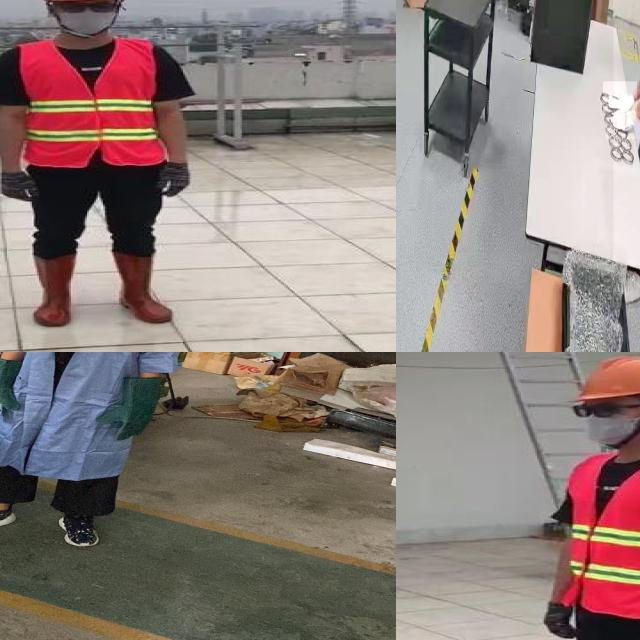boots: (112, 253, 172, 324), (30, 254, 75, 327)
face_mask: (566, 400, 640, 446), (52, 0, 119, 33)
glasses: (567, 398, 635, 421), (54, 0, 115, 17)
hand_glove: (96, 400, 156, 439), (539, 603, 576, 640), (157, 163, 191, 200), (0, 172, 39, 203), (603, 81, 637, 112), (605, 111, 640, 140), (0, 376, 21, 422)
head_helmet: (565, 354, 640, 404)
person: (0, 0, 197, 328), (0, 352, 202, 556), (534, 353, 640, 640), (613, 0, 640, 266)
shoes: (46, 507, 108, 550), (0, 499, 21, 540)
vest: (9, 42, 169, 166), (558, 450, 640, 617)
